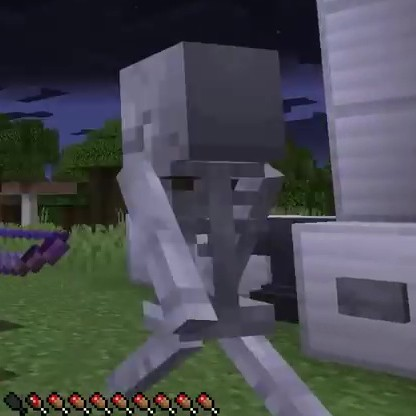skeleton: (111, 38, 288, 386)
